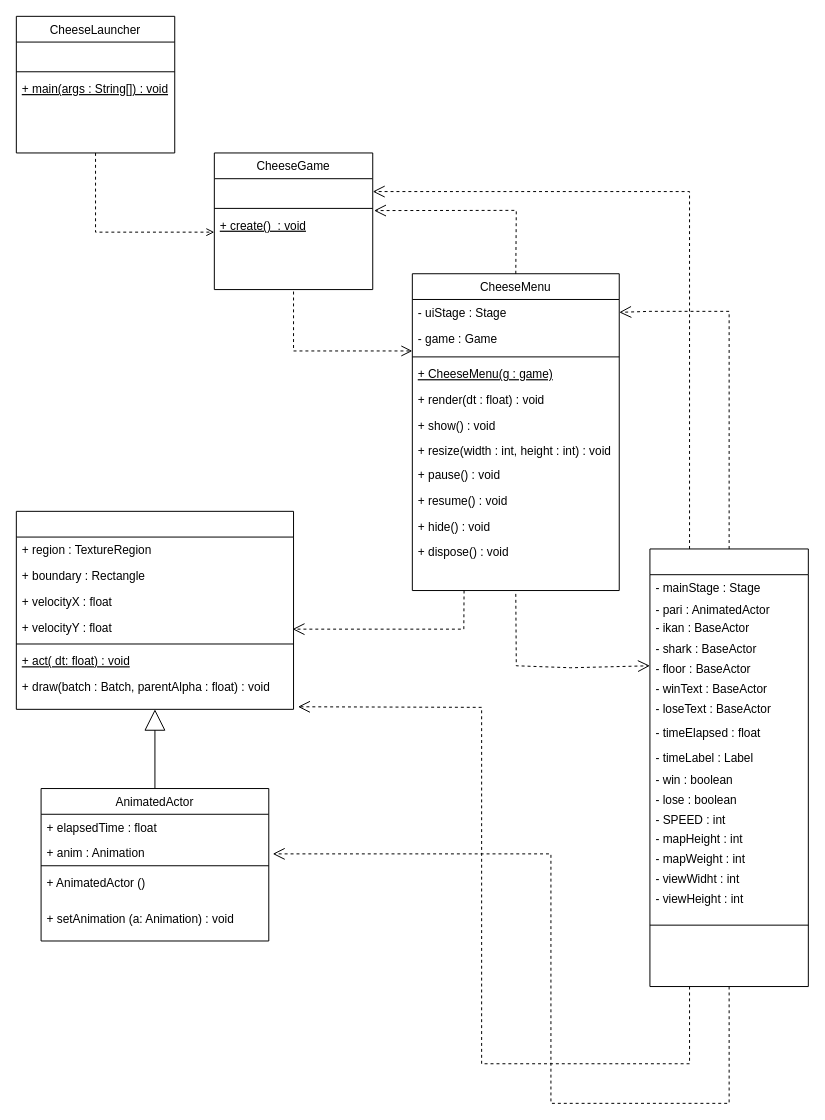
The diagram is 825 pixels wide and 1120 high, and some of its shapes have lost their labels. Here are the shapes that lost their labels. From the top down, the box of each, then its label:
(15, 510, 294, 709): BaseActor
(649, 548, 808, 987): CheeseLevel
